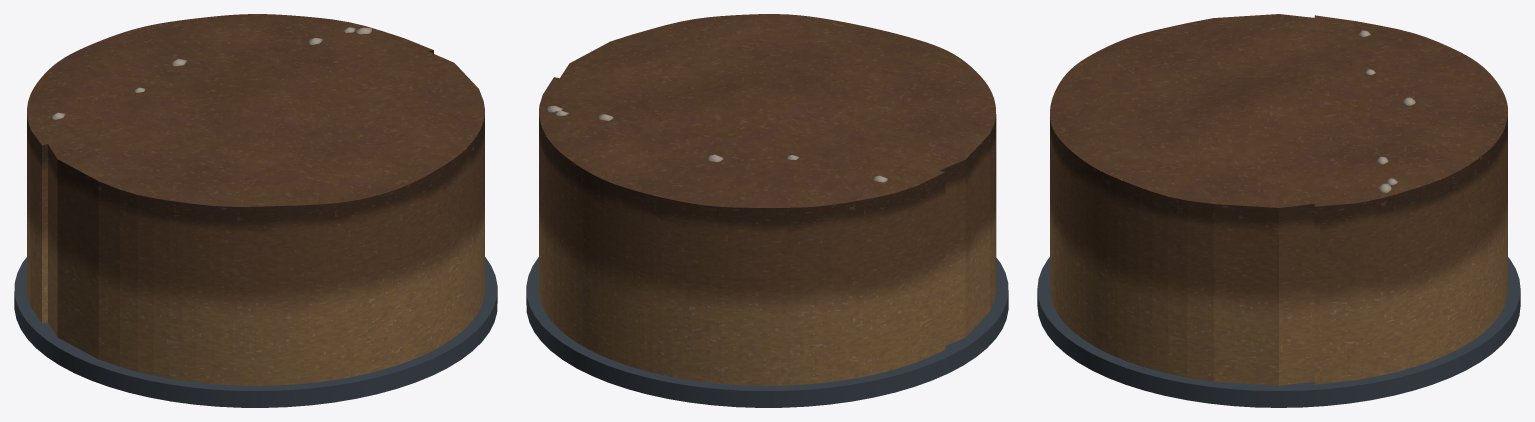
File: 16_soil.glb
3 renders of one model, left to right at view 1: azimuth 30°, elevation 25°; view 2: azimuth 150°, elevation 25°; view 3: azimuth 270°, elevation 25°, orthographic.
Parts seen in each view (by area): view 1: Soil_Front, Soil_Back, Diorama_Base, Soil_Pebbles; view 2: Soil_Back, Soil_Front, Diorama_Base, Soil_Pebbles; view 3: Soil_Front, Soil_Back, Diorama_Base, Soil_Pebbles.
Part boxes in pixels (bbox=[...]): Soil_Front: bbox=[48, 51, 484, 385]; Soil_Back: bbox=[27, 14, 433, 323]; Diorama_Base: bbox=[14, 257, 497, 407]; Soil_Pebbles: bbox=[51, 27, 371, 119]; Soil_Back: bbox=[539, 77, 945, 385]; Soil_Front: bbox=[560, 14, 996, 345]; Diorama_Base: bbox=[526, 257, 1008, 407]; Soil_Pebbles: bbox=[545, 105, 887, 182]; Soil_Front: bbox=[1050, 14, 1314, 385]; Soil_Back: bbox=[1314, 15, 1507, 384]; Diorama_Base: bbox=[1037, 257, 1520, 407]; Soil_Pebbles: bbox=[1358, 30, 1415, 192].
Bounding box in the file's own units: 1.35 × 0.6392 × 1.35.
Materials: 5 (2 with a texture image).
